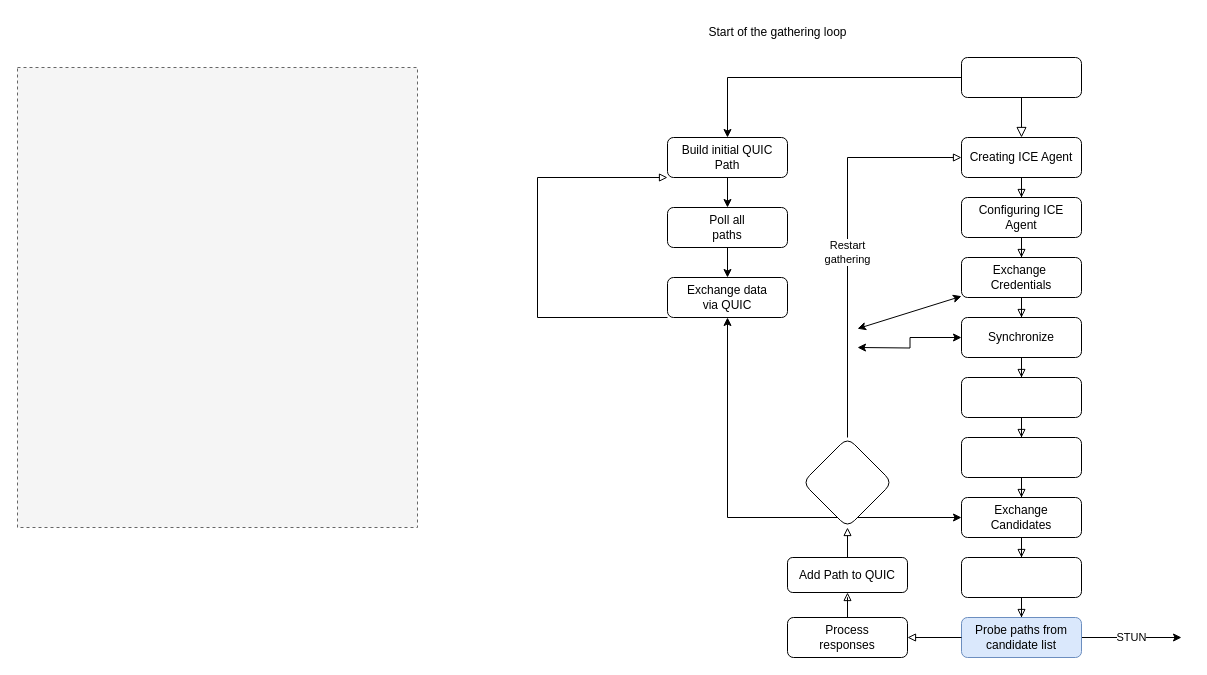
Image size: 1207x675. Some labels were removed from this diagram. The shapes that lost their labels are listed below. From the top down, each one's box as (x1, y1, x2, y2) in pixels, then its label:
(960, 56, 1082, 98): Starting Quichperf
(960, 376, 1082, 418): Starting gathering
(960, 436, 1082, 478): Find local candidates
(802, 436, 892, 528): Possible Candidate Found
(960, 556, 1082, 598): Create candidate pairs
